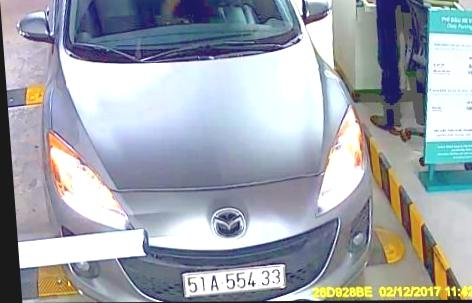License_Plate: (179, 264, 291, 294)
